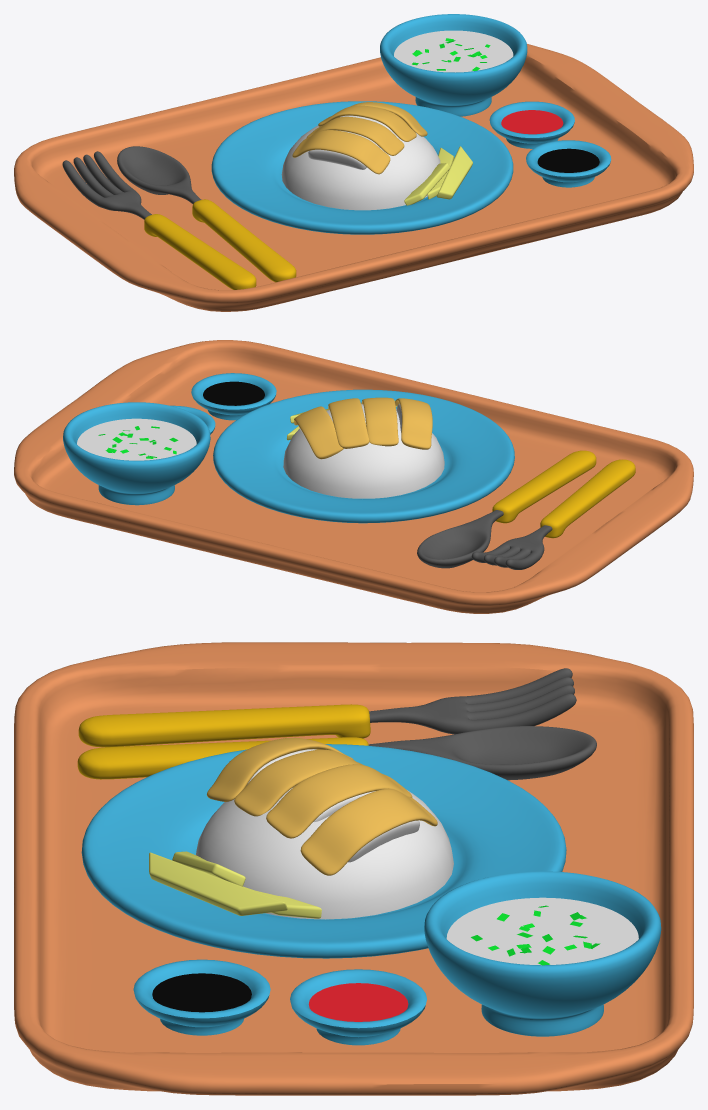
The model's file is Rice.fbx.
The picture shows the model from 3 angles, top to bottom: view 1: azimuth 30°, elevation 25°; view 2: azimuth 150°, elevation 25°; view 3: azimuth 270°, elevation 25°; orthographic projection. The views are drawn at different scales.
Visible parts, largest first — view 1: Tray, Plate, Bowl, Rice, Chicken_Skin, Soup_Fill, Fork, Spoon, Handle_1, Handle, Saucer, Saucer_2_2 (+4 smaller); view 2: Tray, Plate, Bowl, Rice, Chicken_Skin, Soup_Fill, Spoon, Handle, Handle_1, Saucer, Fork, Saucer_2_Fill; view 3: Tray, Plate, Bowl, Rice, Chicken_Skin, Soup_Fill, Handle_1, Spoon, Fork, Cucumber, Saucer_2_2, Saucer (+5 smaller).
Boxes of the visible parts, x1,y1,x2,y2 form: Tray: (14, 44, 693, 311); Plate: (211, 101, 513, 234); Bowl: (380, 14, 527, 116); Rice: (281, 125, 440, 210); Chicken_Skin: (292, 102, 427, 174); Soup_Fill: (394, 30, 513, 72); Fork: (62, 151, 151, 219); Spoon: (117, 146, 201, 203); Handle_1: (144, 214, 256, 289); Handle: (192, 199, 296, 282); Saucer: (526, 140, 611, 187); Saucer_2_2: (489, 101, 574, 148); Tray: (14, 340, 693, 613); Plate: (213, 389, 514, 523); Bowl: (63, 402, 210, 505); Rice: (283, 404, 444, 498); Chicken_Skin: (294, 397, 432, 459); Soup_Fill: (77, 418, 196, 460); Spoon: (417, 510, 503, 568); Handle: (492, 450, 596, 523); Handle_1: (540, 459, 635, 538); Saucer: (191, 373, 276, 420); Fork: (471, 525, 552, 569); Saucer_2_Fill: (203, 381, 264, 405); Tray: (14, 642, 693, 1095); Plate: (81, 744, 566, 958); Bowl: (424, 871, 661, 1036); Rice: (196, 790, 453, 919); Chicken_Skin: (207, 737, 437, 875); Soup_Fill: (446, 897, 638, 965); Handle_1: (78, 704, 370, 747); Spoon: (368, 726, 596, 780); Fork: (369, 668, 576, 734); Cucumber: (149, 851, 321, 918); Saucer_2_2: (290, 969, 426, 1045); Saucer: (133, 959, 270, 1035).
Bounding box in the file's own units: 60.84 × 8.24 × 39.57.
